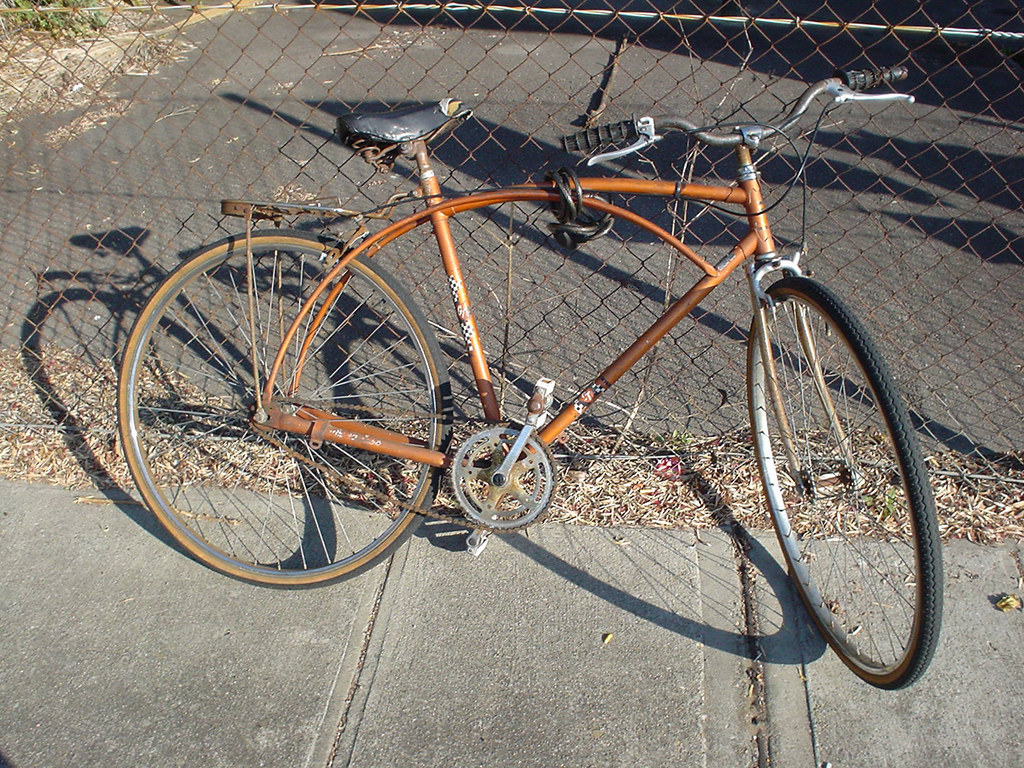bicycle: (123, 87, 952, 699)
